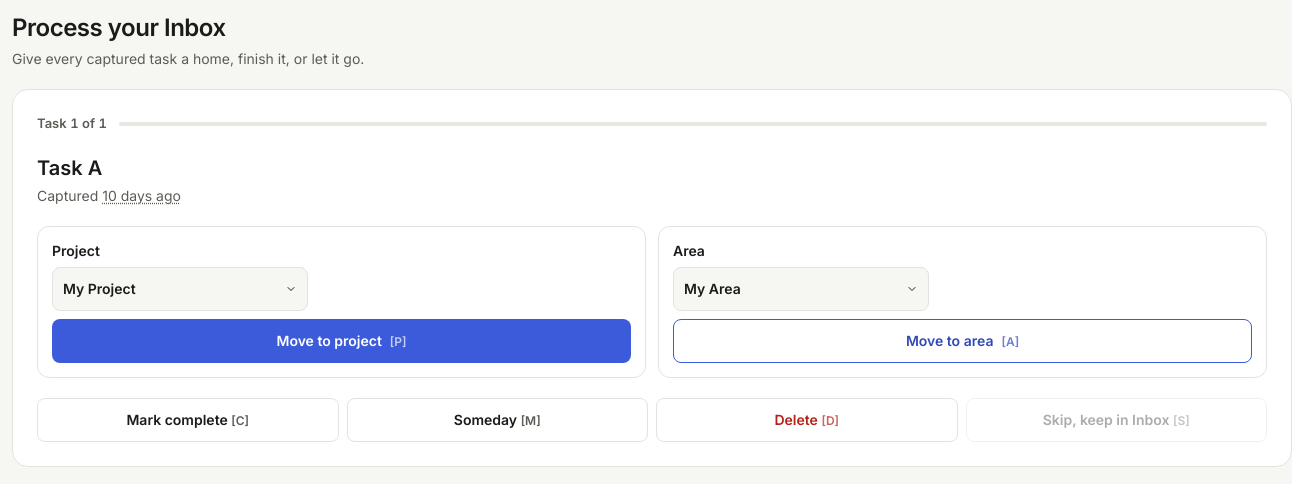
Scenario: InboxStep — safety › does not offer a completed project as a destination
Click the button with aria-label "Select project to move task to".
click(180, 288)  # box [52,266,308,310]
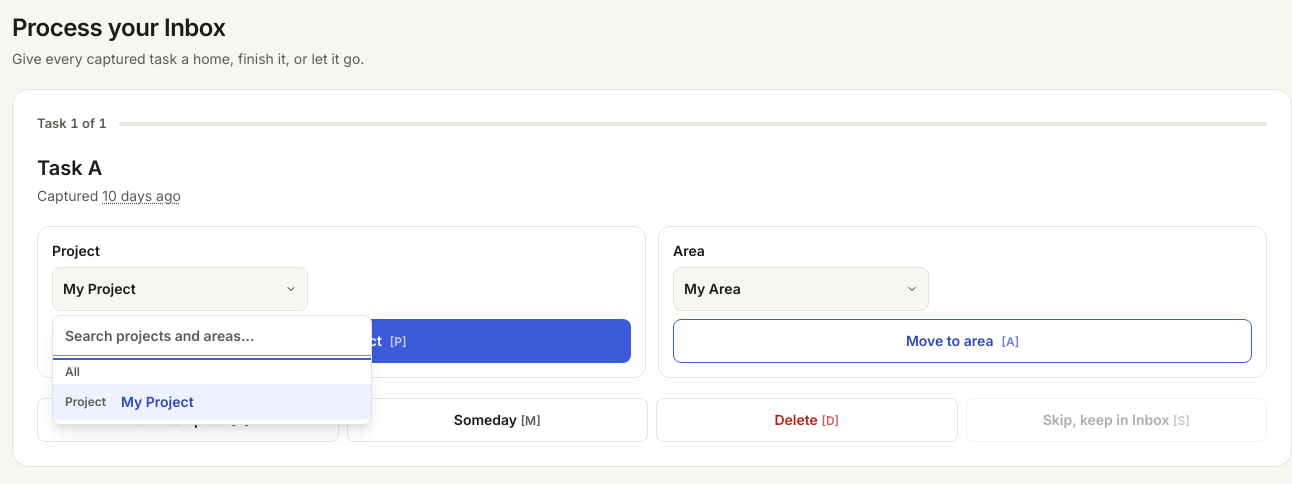
Expected: the option "Project My Project" is shown, [53,384,371,420]
